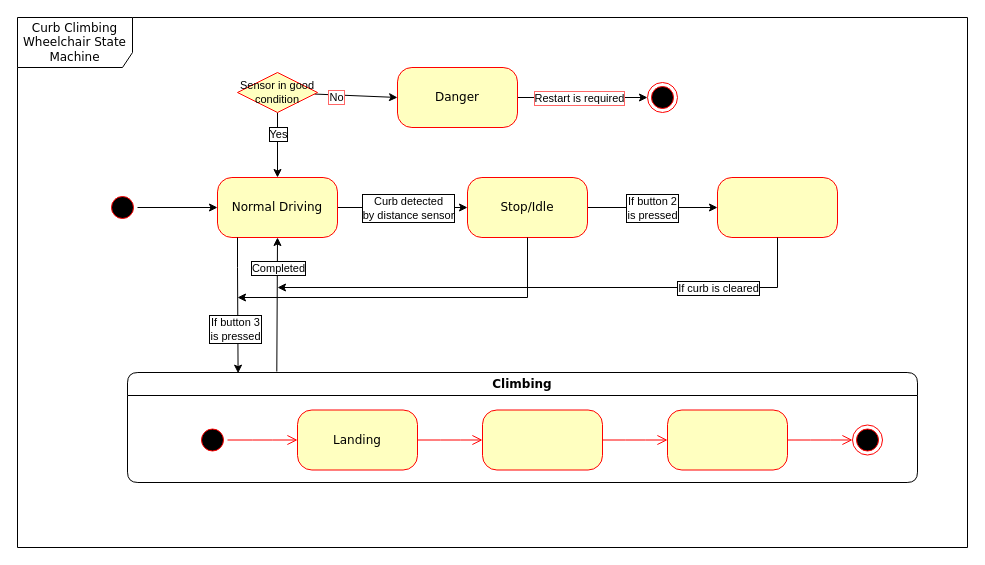
Some shapes in this 985 by 565 pixel diagram are drawn without their labels. Each missing label, with the box of its shape:
Climbing Up / Climbing Down: (482, 409, 602, 470)
Curb Detected: (716, 176, 838, 238)
Retraction: (666, 409, 788, 470)
